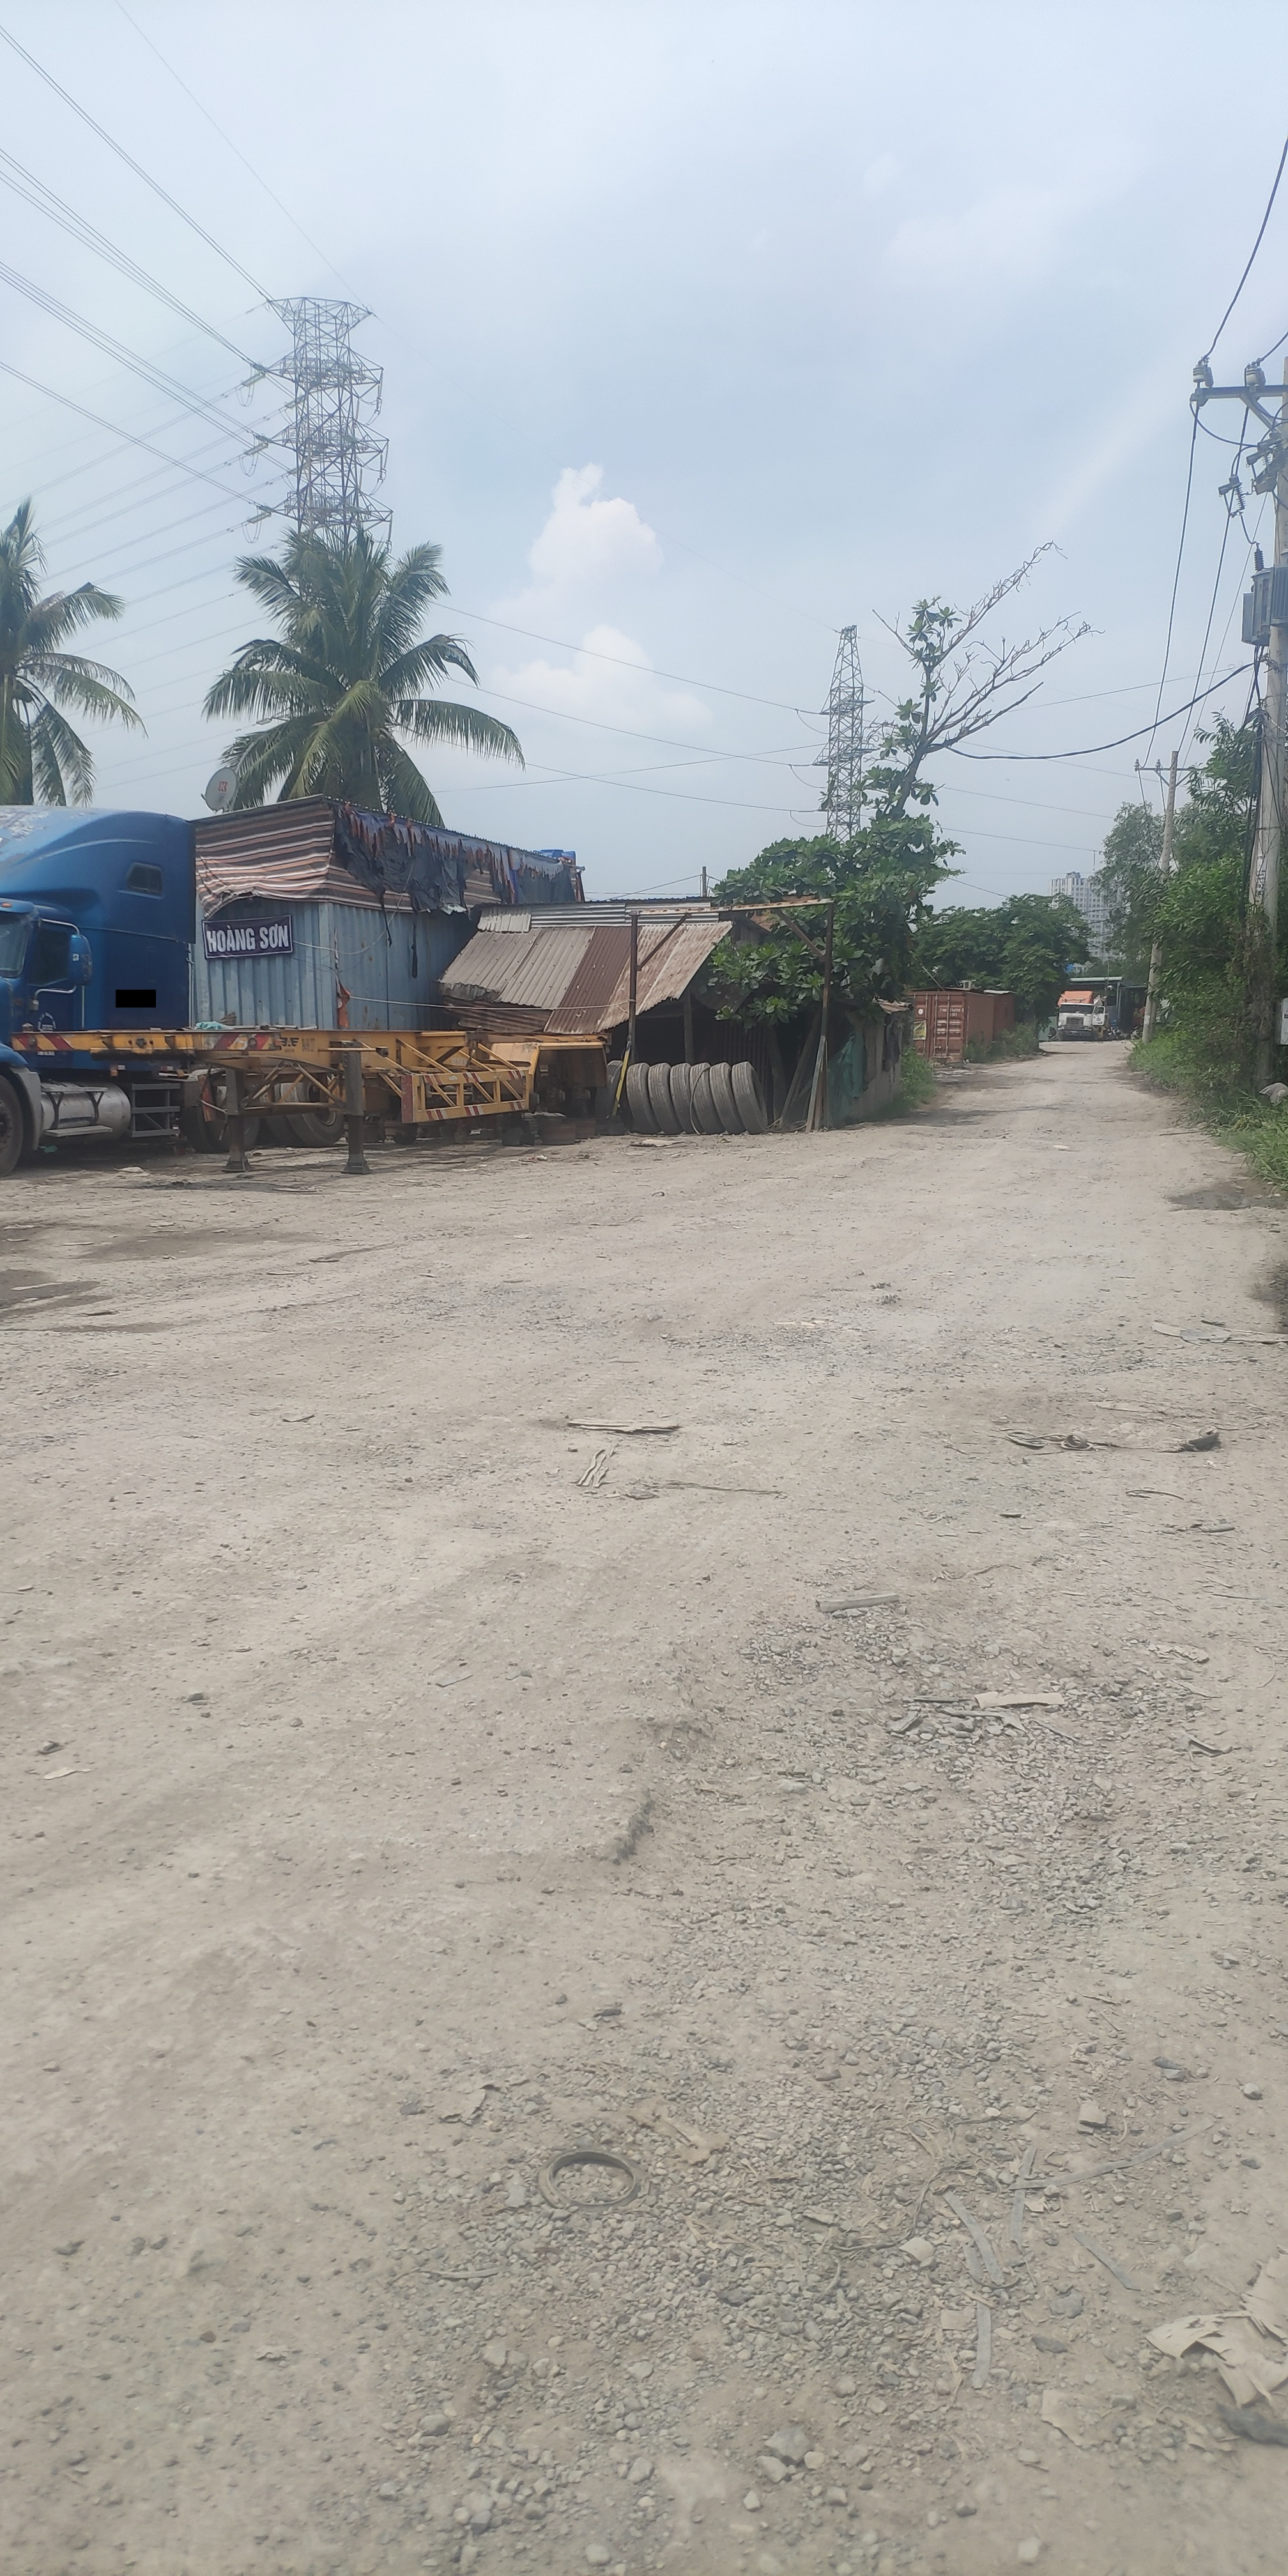hole: (734, 1643, 1193, 1981), (1183, 1176, 1267, 1217), (927, 1130, 1004, 1142), (941, 1078, 971, 1086)
